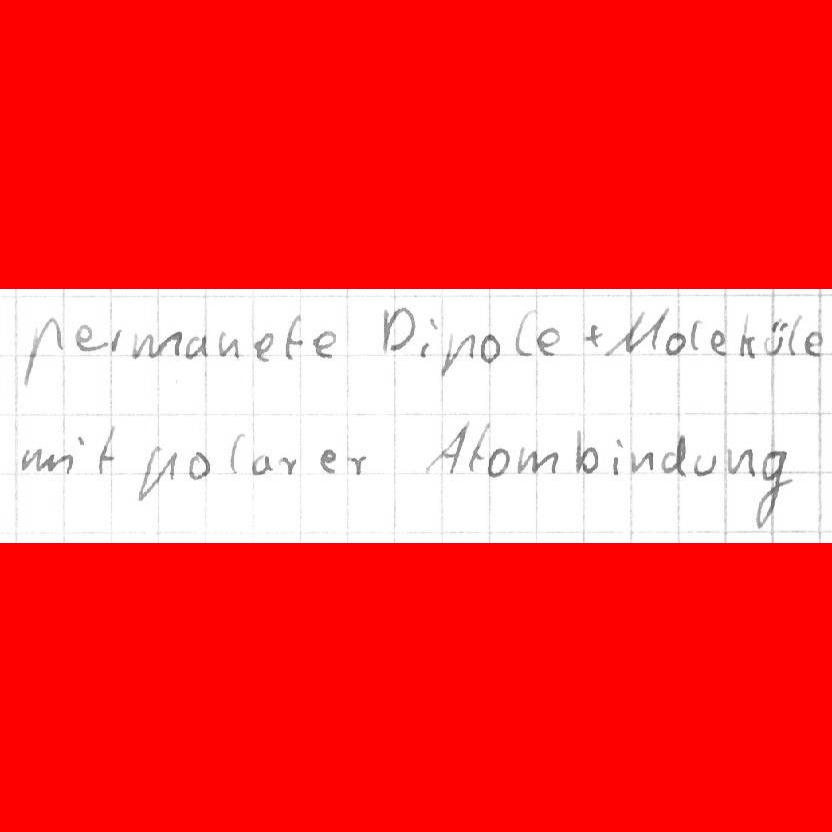Char: (751, 449, 795, 531), (22, 310, 66, 387), (609, 307, 664, 358), (134, 443, 178, 505), (421, 420, 470, 474), (380, 302, 414, 358), (18, 445, 71, 477), (131, 328, 180, 362), (441, 331, 473, 379), (516, 444, 557, 475), (468, 421, 492, 472), (95, 424, 117, 477), (660, 434, 687, 477), (574, 430, 599, 475), (512, 308, 534, 357), (283, 312, 305, 361), (736, 310, 758, 359), (724, 445, 756, 478), (764, 317, 788, 358), (535, 326, 563, 358), (417, 317, 438, 359), (73, 321, 99, 354), (311, 328, 337, 360), (187, 449, 211, 482), (478, 330, 501, 364), (227, 432, 245, 475), (487, 446, 511, 478), (252, 330, 275, 361), (216, 329, 240, 358), (582, 322, 604, 353), (609, 436, 626, 476), (184, 331, 208, 358), (693, 451, 716, 479), (631, 448, 655, 474), (664, 330, 688, 355), (345, 451, 367, 478), (317, 446, 338, 474), (788, 317, 802, 359), (805, 329, 825, 357), (105, 328, 125, 355), (708, 328, 727, 356), (274, 453, 295, 477), (75, 435, 89, 471), (689, 321, 704, 352), (253, 454, 271, 475)
